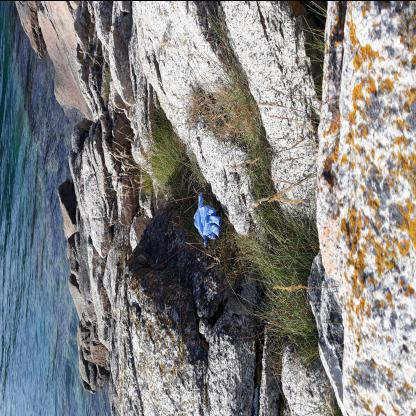plastik: (170, 194, 224, 222)
